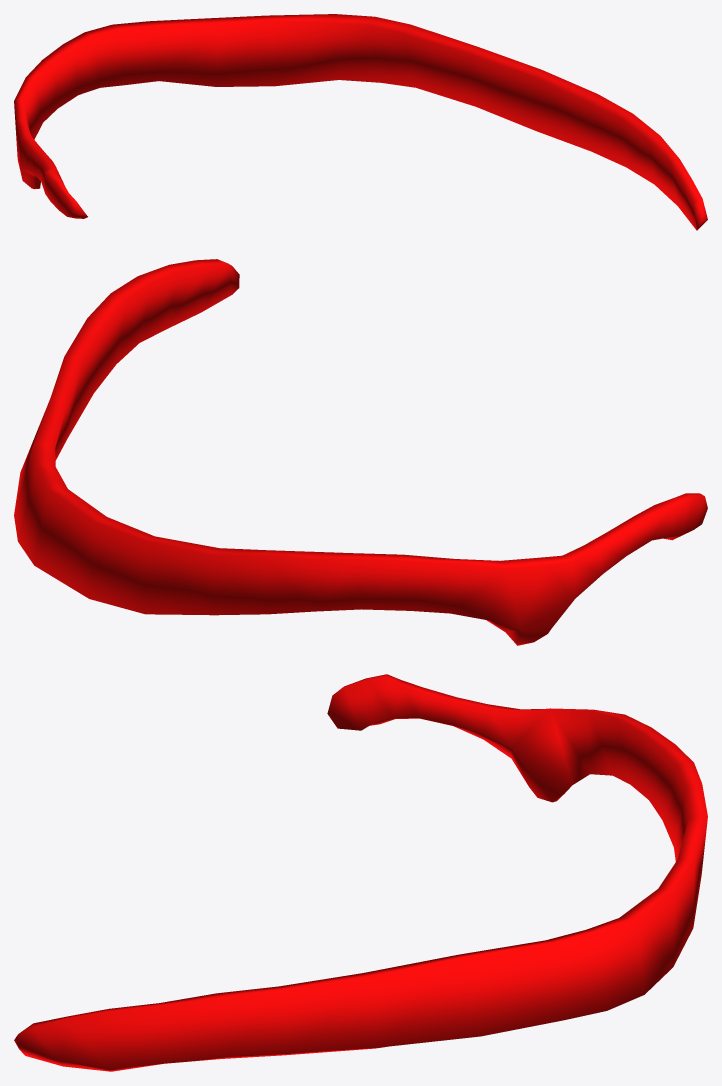
File: SM_L_Ribs_1.FBX
The picture shows the model from 3 angles, top to bottom: view 1: azimuth 30°, elevation 25°; view 2: azimuth 150°, elevation 25°; view 3: azimuth 270°, elevation 25°; orthographic projection. The views are drawn at different scales.
Parts seen in each view (by area): view 1: L_Ribs_1; view 2: L_Ribs_1; view 3: L_Ribs_1.
Part boxes in pixels (bbox=[...]): L_Ribs_1: bbox=[14, 14, 707, 230]; L_Ribs_1: bbox=[14, 259, 707, 645]; L_Ribs_1: bbox=[14, 674, 707, 1071].
Size of the model in its own units: 14.72 by 2.22 by 13.66.
